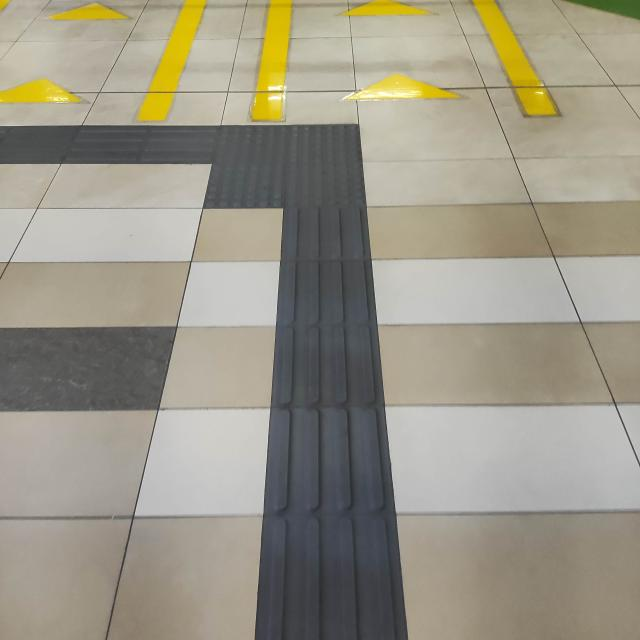kiri: (107, 85, 416, 281)
